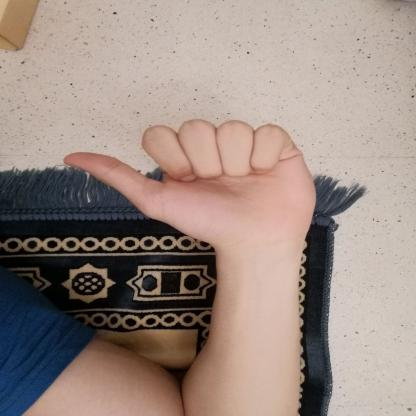DAD: (53, 113, 329, 258)
